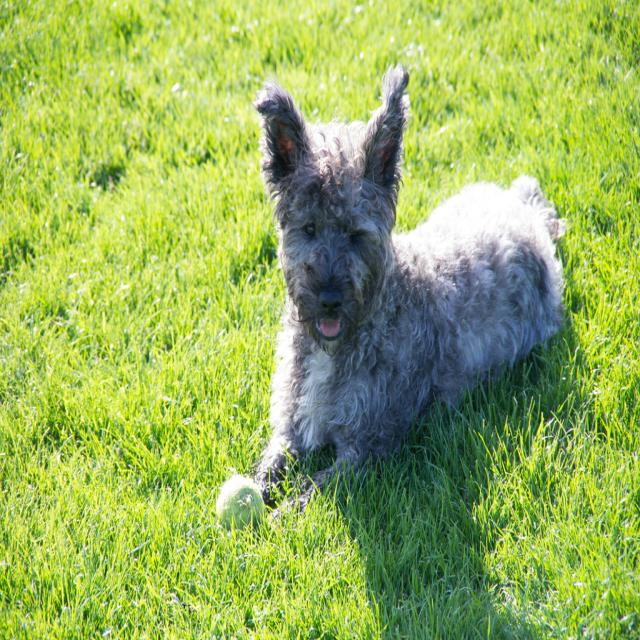Dog: (250, 61, 569, 534)
